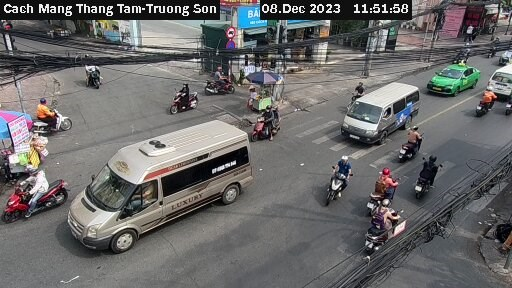car: (67, 120, 260, 246), (339, 79, 424, 141), (428, 57, 477, 97), (488, 61, 512, 96)
motorbike: (3, 168, 69, 221), (354, 201, 414, 254), (246, 100, 294, 139), (409, 157, 452, 198), (321, 155, 354, 207), (31, 98, 71, 135), (359, 167, 397, 204), (396, 125, 430, 161), (82, 57, 116, 92), (166, 80, 203, 111), (202, 63, 239, 93), (348, 79, 367, 98)
